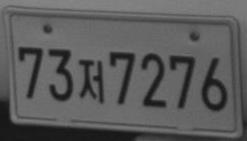2: (140, 52, 167, 107)
3: (48, 48, 73, 101)
6: (200, 56, 228, 111)
7: (108, 50, 135, 104), (169, 54, 196, 108), (18, 45, 43, 98)
저: (78, 58, 104, 103)
